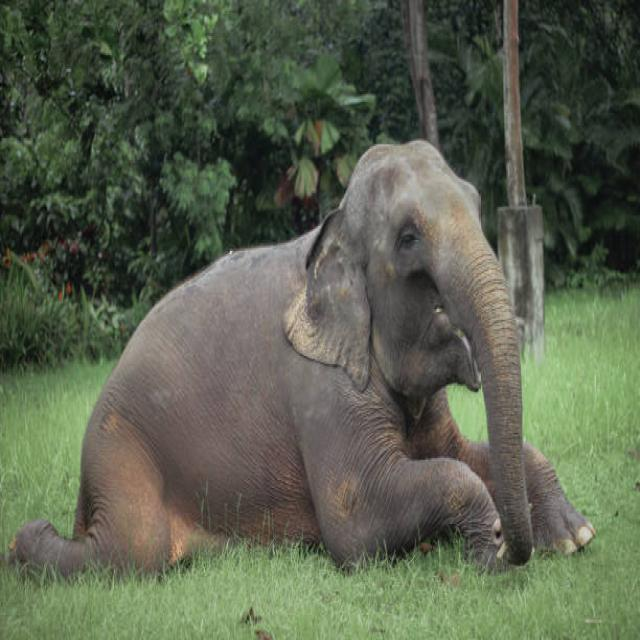Elephant: (8, 130, 606, 598)
